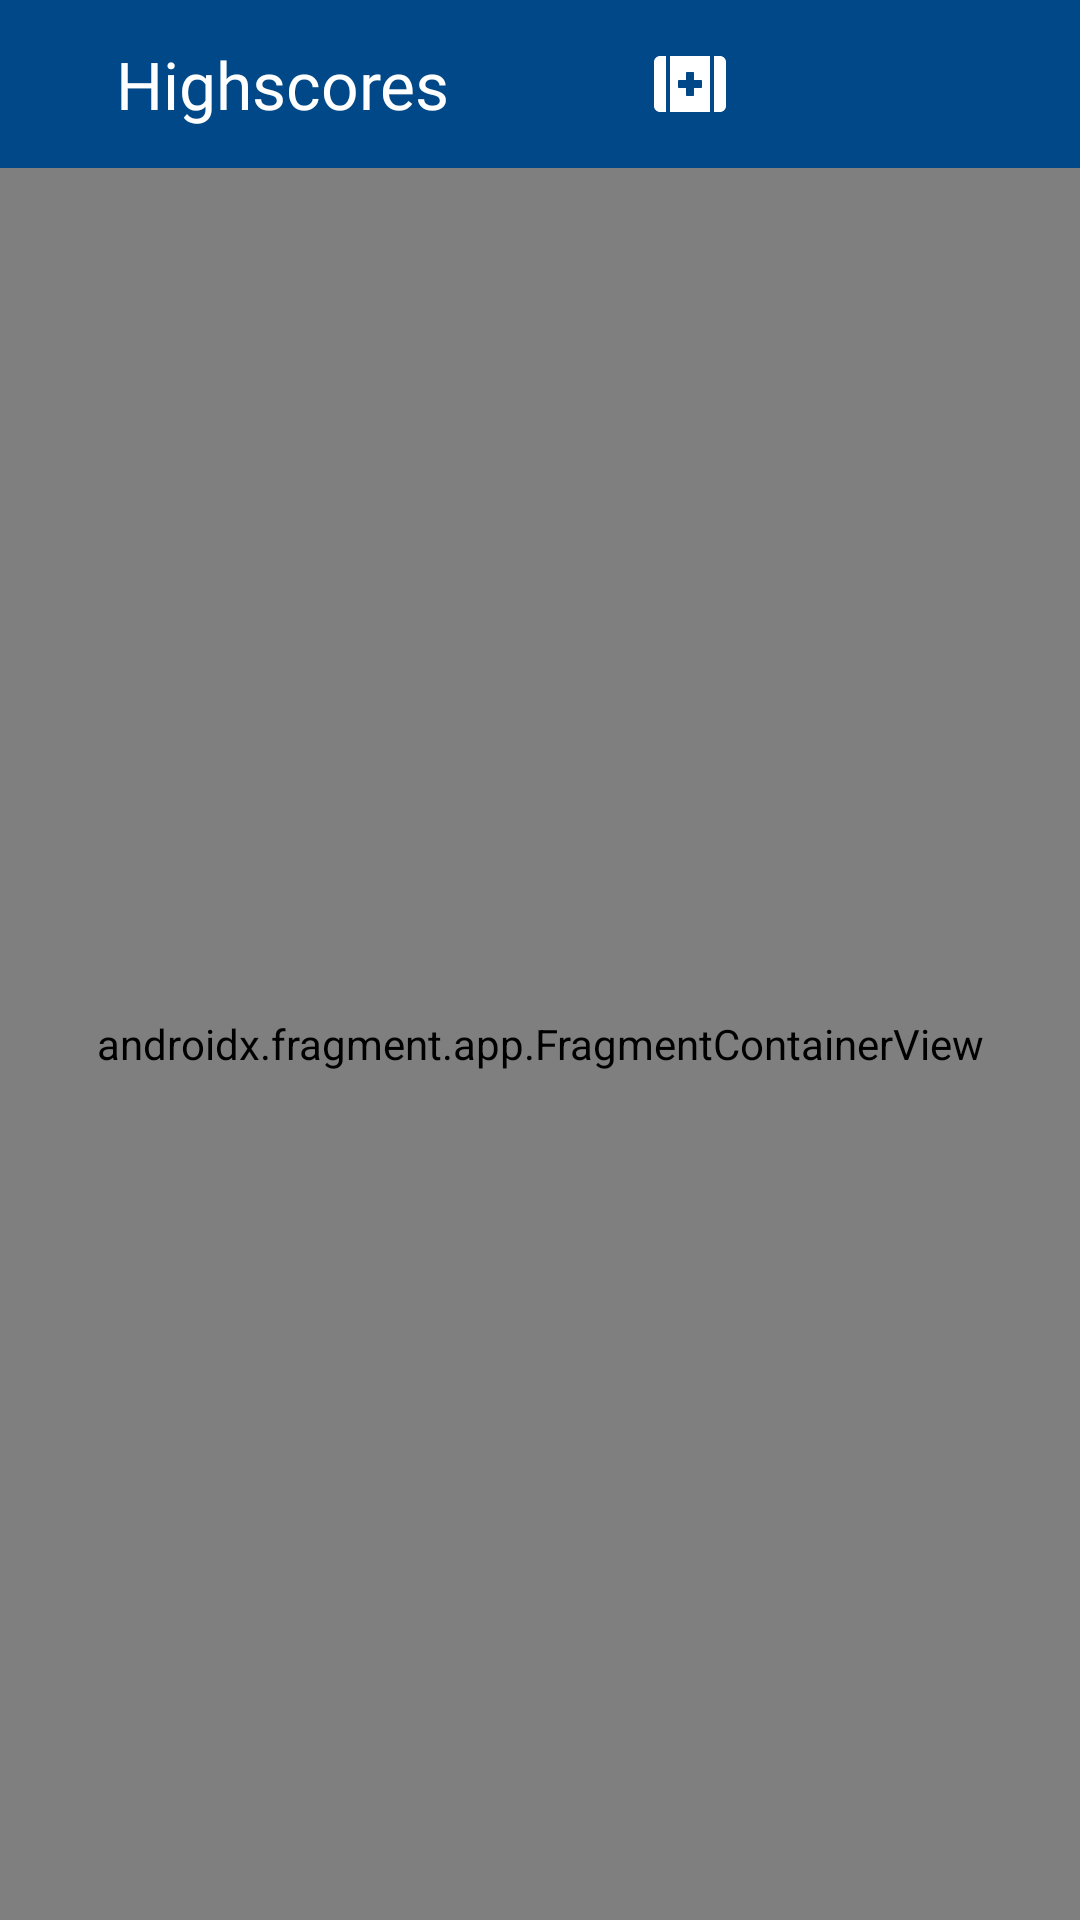

Where icons sit on this 1080w x 1920h app screen, as (x1, y1, x2, y2):
first aid: (654, 56, 726, 112)
